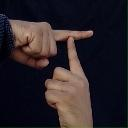hand: (0, 19, 94, 69), (44, 36, 93, 127)
